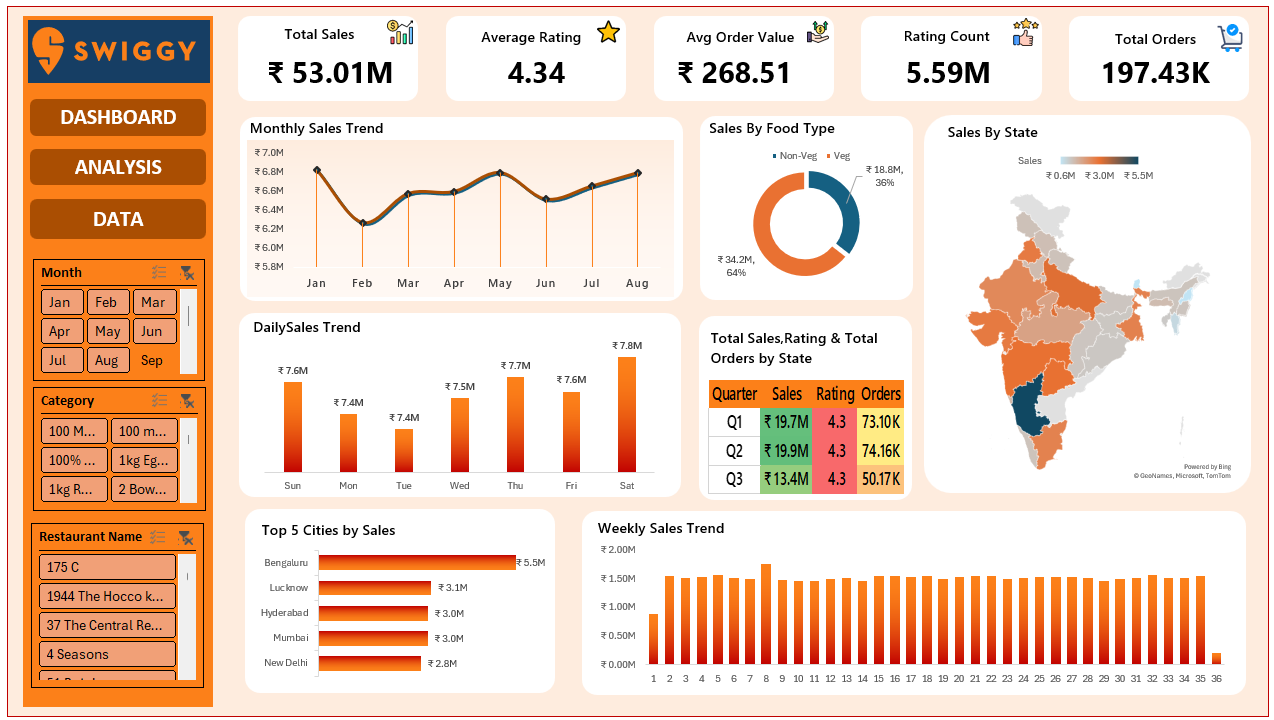

The page's visual inventory and layout, read from the dashboard file:
{"tool":"powerbi","page":{"name":"Page 1","canvas":[1500,900],"ordinal":0},"visuals":[{"type":"shape","box":[12.5,17.5,235,865],"z":0},{"type":"card","fields":{"Values":["fact_orders.Total Sales"]},"box":[270,18,200,108],"z":1000},{"type":"card","fields":{"Values":["fact_orders.Avg Order Value"]},"box":[522,18,200,108],"z":2000},{"type":"card","fields":{"Values":["fact_orders.Total Orders"]},"box":[774,18,200,108],"z":3000},{"type":"card","fields":{"Values":["Avg(fact_orders.rating)"]},"box":[1026,18,200,108],"z":4000},{"type":"card","fields":{"Values":["Sum(fact_orders.rating_count)"]},"box":[1278,18,200,108],"z":5000},{"type":"image","box":[14,18,234,108],"z":6000},{"type":"shape","box":[270,148,666,244],"z":7000},{"type":"areaChart","title":" Monthly Trend","fields":{"Category":["dim_date.Month Name"],"Y":["fact_orders.Total Sales"]},"box":[272,148,666,244],"z":8000},{"type":"shape","box":[956,148,522,244],"z":9000},{"type":"donutChart","fields":{"Category":["dim_dish.Food Type"],"Y":["fact_orders.Total Sales"]},"box":[956,184,522,208],"z":10000},{"type":"shape","box":[272,410,450,220],"z":11000},{"type":"columnChart","title":"Daily Trend","fields":{"Category":["dim_date.Day"],"Y":["fact_orders.Total Sales"]},"box":[270,410,450,220],"z":12000},{"type":"shape","box":[742,410,390,220],"z":13000},{"type":"clusteredBarChart","title":" Sales by Restaurant(Top 5)","fields":{"Category":["dim_restaurant.restaurant_name"],"Y":["fact_orders.Total Sales"]},"box":[740,410,392,220],"z":14000},{"type":"shape","box":[1152,410,326,474],"z":15000},{"type":"barChart","title":"Total Sales by State(Top 15)","fields":{"Category":["dim_location.state"],"Y":["fact_orders.Total Sales"]},"box":[1152,410,324,474],"z":16000},{"type":"shape","box":[272,640,860,244],"z":17000},{"type":"columnChart","title":"Weekly Trend","fields":{"Y":["fact_orders.Total Sales"],"Category":["dim_date.Week Number"]},"box":[272,640,860,244],"z":18000},{"type":"slicer","fields":{"Values":["dim_location.city"]},"box":[12,184,236,118],"z":19000},{"type":"slicer","fields":{"Values":["dim_dish.Food Type"]},"box":[14,350,234,118],"z":20000},{"type":"slicer","fields":{"Values":["dim_restaurant.restaurant_name"]},"box":[12,512,236,118],"z":21000}]}

Visuals, with their boxes on the page's 1500x900 design canvas (x1, y1, x2, y2). These are canvas units, not pixel positions in the 1274x720 screenshot, which may show the page scaled, cropped or inside an application window:
shape: <box>12,18,248,882</box>
card - fact_orders.Total Sales: <box>270,18,470,126</box>
card - fact_orders.Avg Order Value: <box>522,18,722,126</box>
card - fact_orders.Total Orders: <box>774,18,974,126</box>
card - Avg(fact_orders.rating): <box>1026,18,1226,126</box>
card - Sum(fact_orders.rating_count): <box>1278,18,1478,126</box>
image: <box>14,18,248,126</box>
shape: <box>270,148,936,392</box>
" Monthly Trend" areaChart: <box>272,148,938,392</box>
shape: <box>956,148,1478,392</box>
donutChart - dim_dish.Food Type x fact_orders.Total Sales: <box>956,184,1478,392</box>
shape: <box>272,410,722,630</box>
"Daily Trend" columnChart: <box>270,410,720,630</box>
shape: <box>742,410,1132,630</box>
" Sales by Restaurant(Top 5)" clusteredBarChart: <box>740,410,1132,630</box>
shape: <box>1152,410,1478,884</box>
"Total Sales by State(Top 15)" barChart: <box>1152,410,1476,884</box>
shape: <box>272,640,1132,884</box>
"Weekly Trend" columnChart: <box>272,640,1132,884</box>
slicer - dim_location.city: <box>12,184,248,302</box>
slicer - dim_dish.Food Type: <box>14,350,248,468</box>
slicer - dim_restaurant.restaurant_name: <box>12,512,248,630</box>
